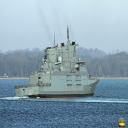Fragata: (16, 24, 103, 100)
